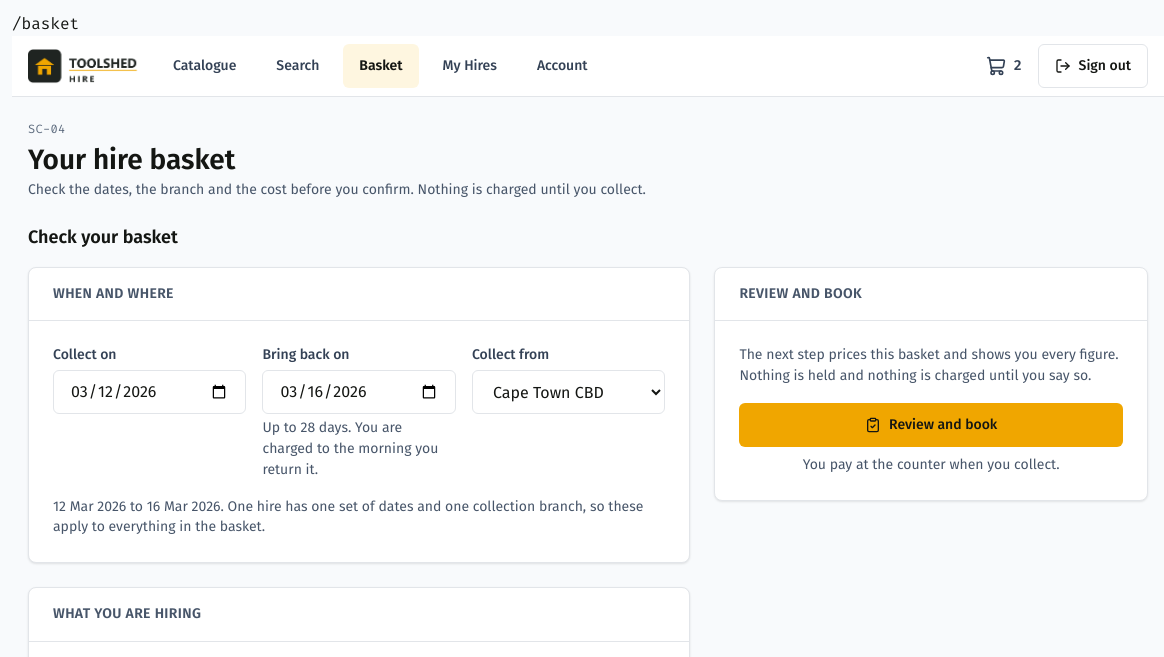
Test: holding the equipment › holds the draft, moves focus to the step, and says until when
Click the button "Review and book": (931, 425) [739,403,1123,447]
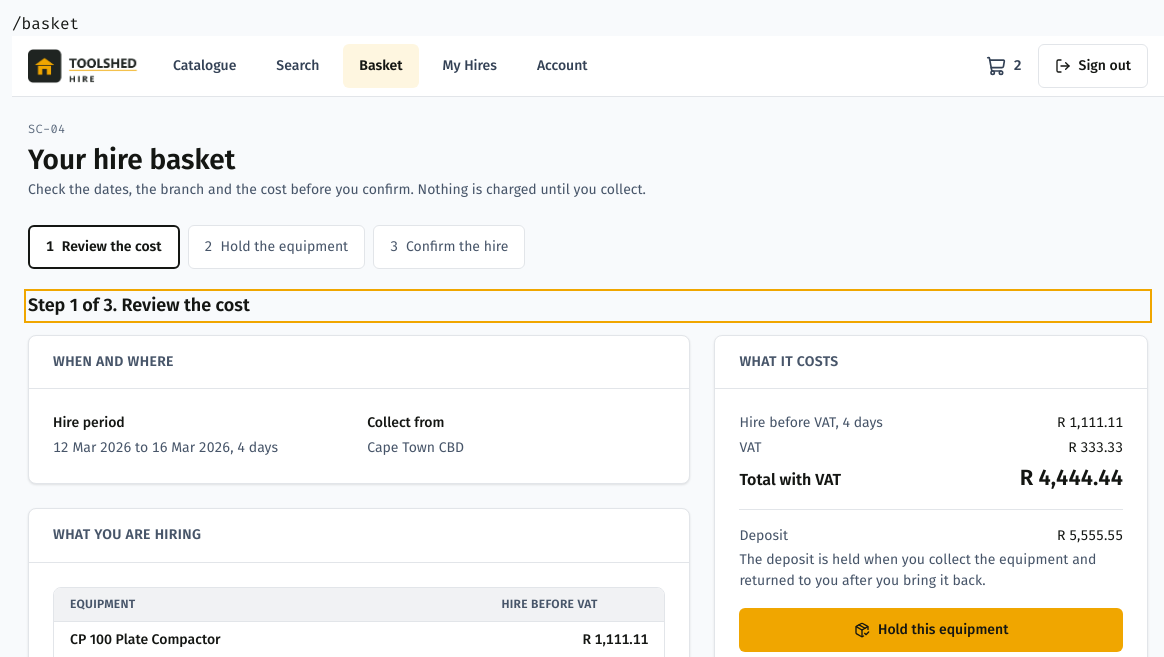
Click the button "Hold this equipment": (931, 630) [739,608,1123,652]
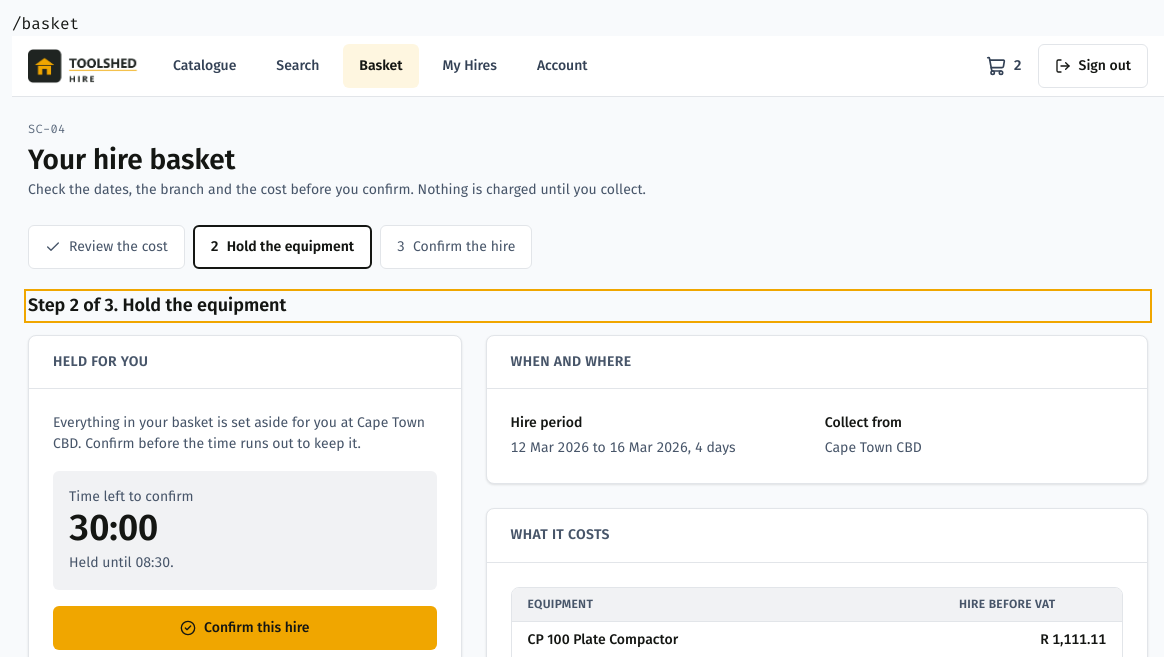
Expected: the text named "Time left to confirm" reads "30:00", [69,506,158,550]
